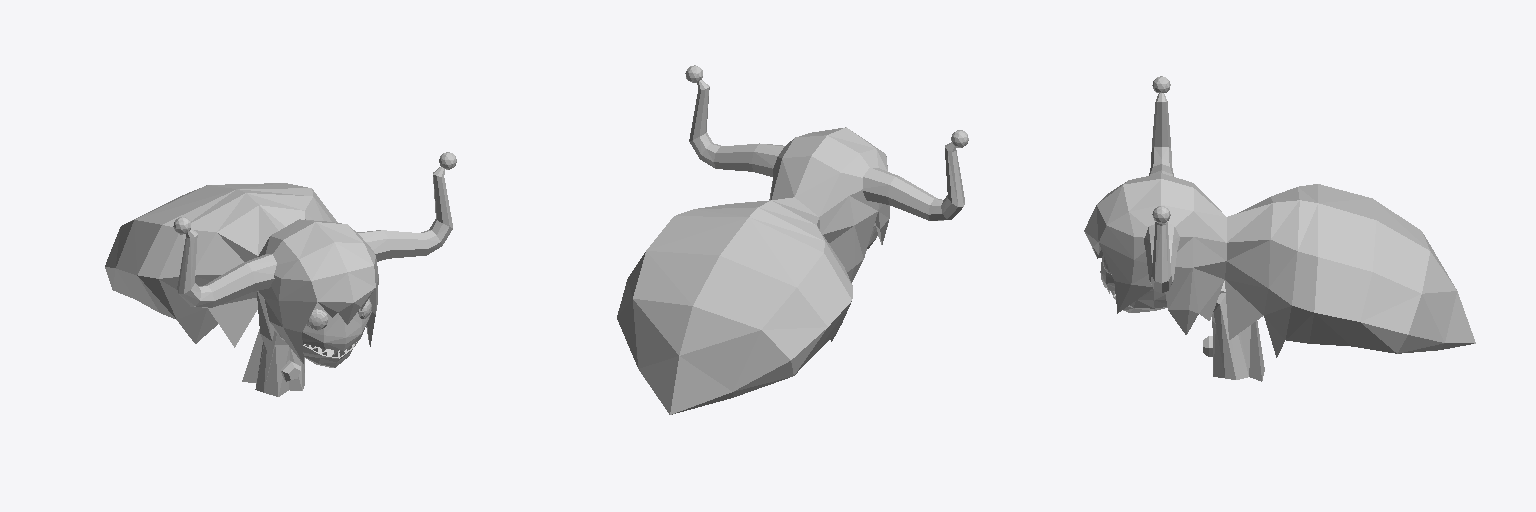
File: head-10_arukenimon.blend.obj
The picture shows the model from 3 angles: view 1: azimuth 30°, elevation 25°; view 2: azimuth 150°, elevation 25°; view 3: azimuth 270°, elevation 25°; orthographic projection.
Parts seen in each view (by area): view 1: head-10_arukenimon.blend_Arukenimon.001; view 2: head-10_arukenimon.blend_Arukenimon.001; view 3: head-10_arukenimon.blend_Arukenimon.001.
Part boxes in pixels (x1,y1,x2,y2): head-10_arukenimon.blend_Arukenimon.001: (105,152,456,396); head-10_arukenimon.blend_Arukenimon.001: (617,65,968,414); head-10_arukenimon.blend_Arukenimon.001: (1084,76,1475,381).
Bounding box in the file's own units: 1.59 × 1.24 × 1.92.